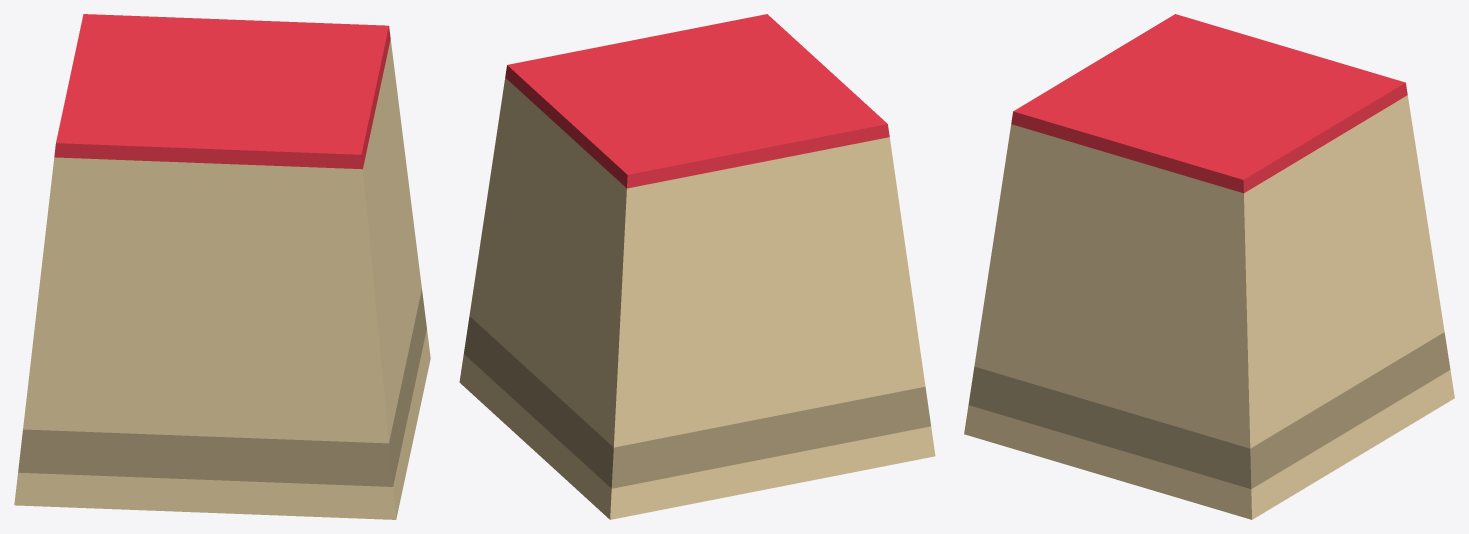
The model's file is House_10.fbx.
3 views of the same model, side by side, from view 1: azimuth 30°, elevation 25°; view 2: azimuth 150°, elevation 25°; view 3: azimuth 270°, elevation 25° (orthographic). The views are drawn at different scales.
Visible parts, largest first — view 1: House_10; view 2: House_10; view 3: House_10.
Part boxes in pixels (bbox=[...]): House_10: bbox=[14, 14, 430, 519]; House_10: bbox=[459, 14, 935, 519]; House_10: bbox=[964, 14, 1454, 519].
Size of the model in its own units: 174 by 125 by 174.
